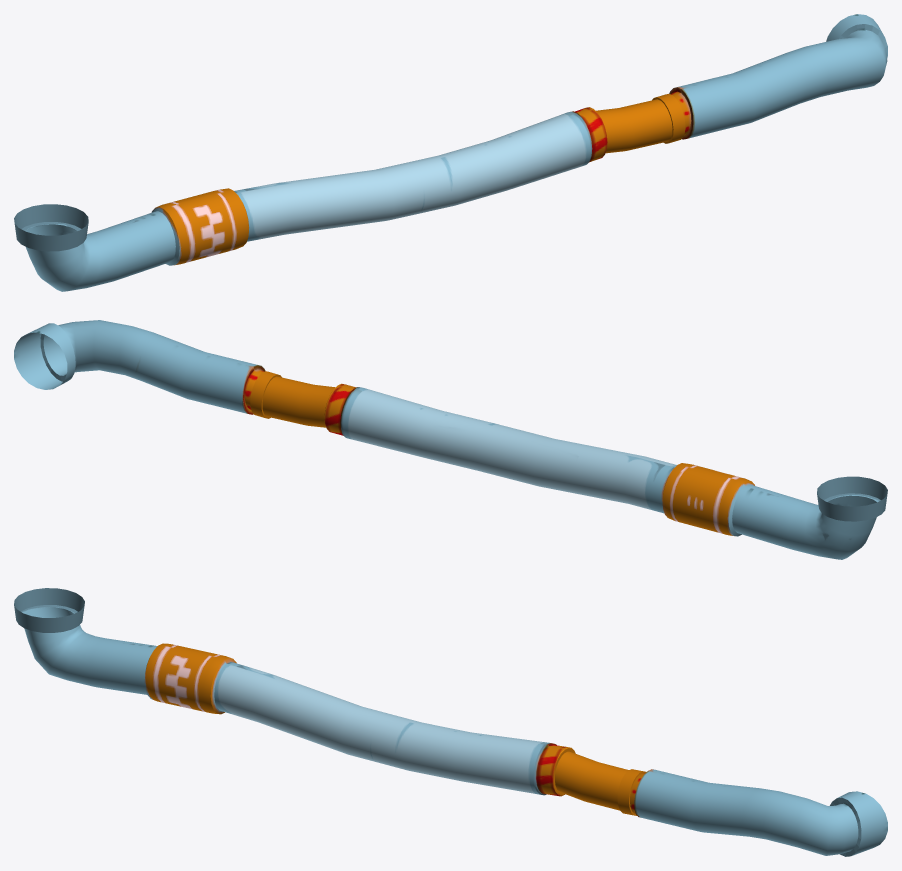
Rendered from Ceiling_Pipe.fbx.
3 views of the same model, one above another, from view 1: azimuth 30°, elevation 25°; view 2: azimuth 150°, elevation 25°; view 3: azimuth 330°, elevation 25° (orthographic). The views are drawn at different scales.
Parts seen in each view (by area): view 1: Ceiling_Pipe; view 2: Ceiling_Pipe; view 3: Ceiling_Pipe.
Boxes of the visible parts, x1,y1,x2,y2 form: Ceiling_Pipe: (14,14,887,291); Ceiling_Pipe: (14,320,887,559); Ceiling_Pipe: (14,588,887,856).
Size of the model in its own units: 637 by 52.24 by 56.07.
